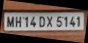character: (6, 15, 14, 27), (38, 15, 46, 27), (46, 15, 53, 27), (29, 16, 36, 27), (69, 15, 76, 26), (15, 15, 21, 27), (56, 15, 62, 27), (63, 15, 68, 27), (76, 15, 80, 27), (24, 16, 28, 27)
